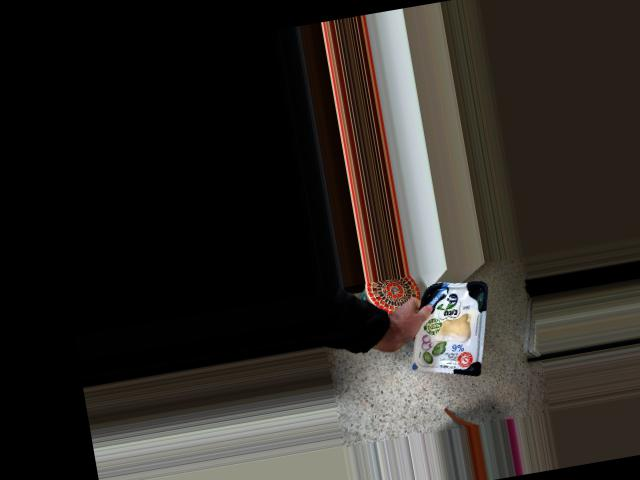cheese: (398, 273, 501, 381)
